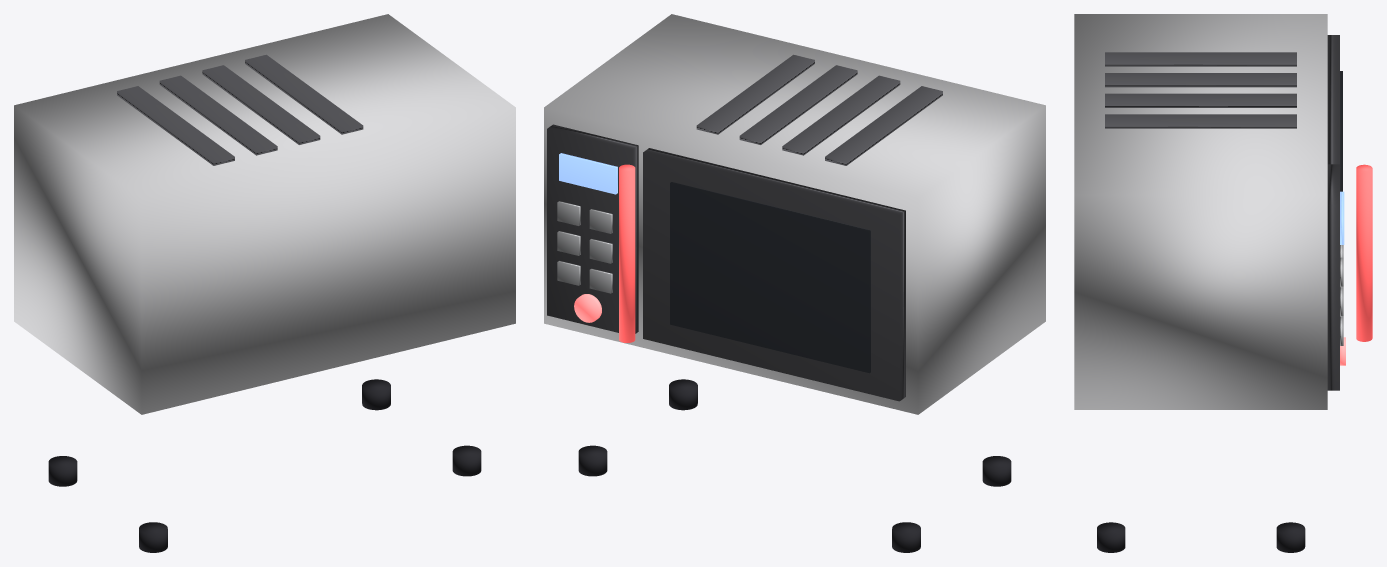
The model's file is microwave.glb.
3 views of the same model, side by side, from view 1: azimuth 30°, elevation 25°; view 2: azimuth 150°, elevation 25°; view 3: azimuth 270°, elevation 25° (orthographic).
Parts seen in each view (by area): view 1: cab, vent_2, vent_3, vent_1, vent_0, foot.002, foot.001, foot, foot.003; view 2: cab, window, door, panel, handle, vent_2, vent_3, vent_1, vent_0, clock, foot.003, foot (+3 smaller); view 3: cab, handle, panel, vent_0, vent_1, vent_2, vent_3, door, foot.003, foot.002.
Part boxes in pixels (left/top/right/bottom): cab: left=14, top=14, right=515, bottom=414; vent_2: left=202, top=65, right=320, bottom=144; vent_3: left=245, top=54, right=363, bottom=134; vent_1: left=159, top=75, right=277, bottom=155; vent_0: left=117, top=86, right=234, bottom=165; foot.002: left=452, top=445, right=481, bottom=476; foot.001: left=48, top=456, right=77, bottom=486; foot: left=139, top=522, right=167, bottom=552; foot.003: left=362, top=379, right=390, bottom=410; cab: left=544, top=14, right=1045, bottom=414; window: left=670, top=182, right=870, bottom=373; door: left=643, top=148, right=905, bottom=401; panel: left=547, top=124, right=638, bottom=333; handle: left=619, top=164, right=635, bottom=342; vent_2: left=739, top=65, right=857, bottom=144; vent_3: left=696, top=54, right=814, bottom=134; vent_1: left=782, top=75, right=900, bottom=155; vent_0: left=825, top=86, right=942, bottom=165; clock: left=559, top=153, right=617, bottom=194; foot.003: left=578, top=445, right=607, bottom=476; foot: left=982, top=456, right=1011, bottom=486; cab: left=1074, top=14, right=1327, bottom=409; handle: left=1356, top=164, right=1372, bottom=341; panel: left=1327, top=164, right=1339, bottom=390; vent_0: left=1105, top=52, right=1296, bottom=66; vent_1: left=1105, top=73, right=1296, bottom=87; vent_2: left=1105, top=93, right=1296, bottom=107; vent_3: left=1105, top=114, right=1296, bottom=128; door: left=1327, top=35, right=1339, bottom=164; foot.003: left=1276, top=522, right=1305, bottom=552; foot.002: left=1097, top=522, right=1125, bottom=552.
Size of what is drawn, in the model's own units: 1.05 by 1 by 0.73.
